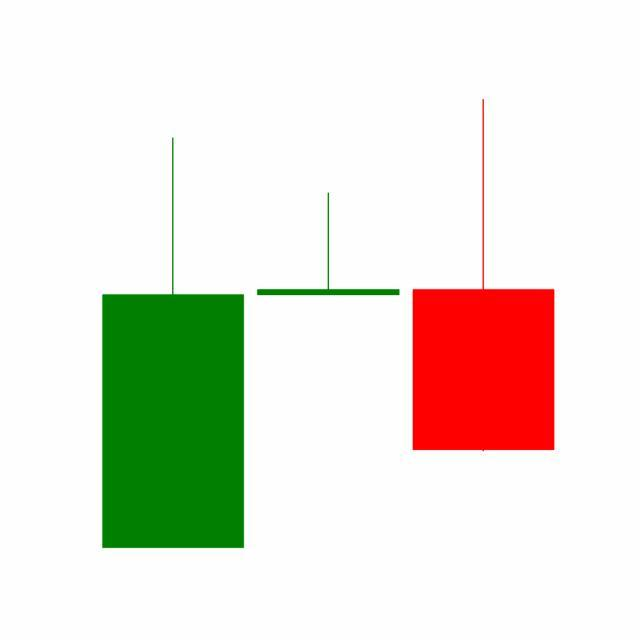Gravestone Doji: (250, 192, 407, 297)
